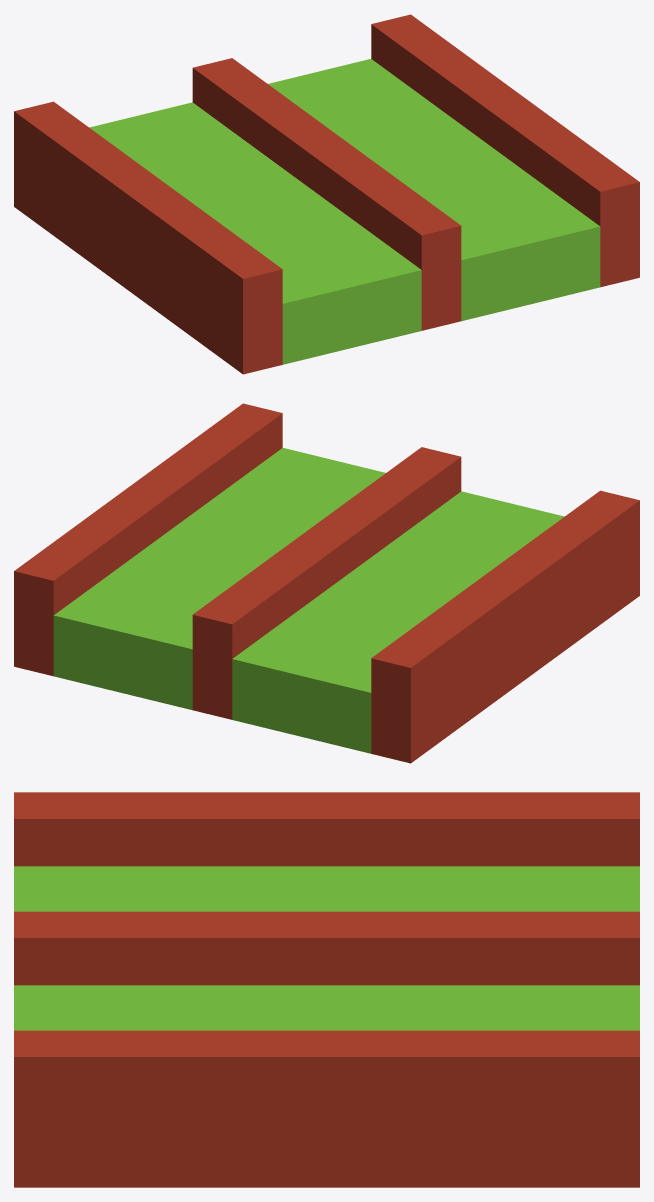
The model's file is Split.FBX.
3 renders of one model, top to bottom at view 1: azimuth 30°, elevation 25°; view 2: azimuth 150°, elevation 25°; view 3: azimuth 270°, elevation 25°, orthographic. The views are drawn at different scales.
Parts seen in each view (by area): view 1: Walls, Split_01; view 2: Walls, Split_01; view 3: Walls, Split_01.
Part boxes in pixels (x1=…): Walls: x1=14, y1=14, x2=639, y2=374; Split_01: x1=89, y1=59, x2=600, y2=364; Walls: x1=14, y1=403, x2=639, y2=763; Split_01: x1=53, y1=448, x2=564, y2=753; Walls: x1=14, y1=792, x2=639, y2=1187; Split_01: x1=14, y1=866, x2=639, y2=1030.
Bounding box in the file's own units: 0.9999 × 0.9999 × 0.23.
